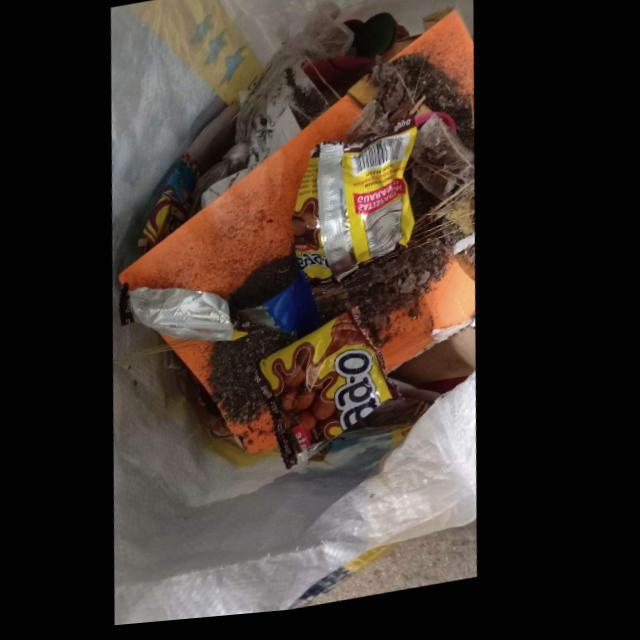food_wrapper: (261, 313, 410, 475), (296, 125, 421, 287), (131, 156, 204, 266), (124, 285, 254, 346)
